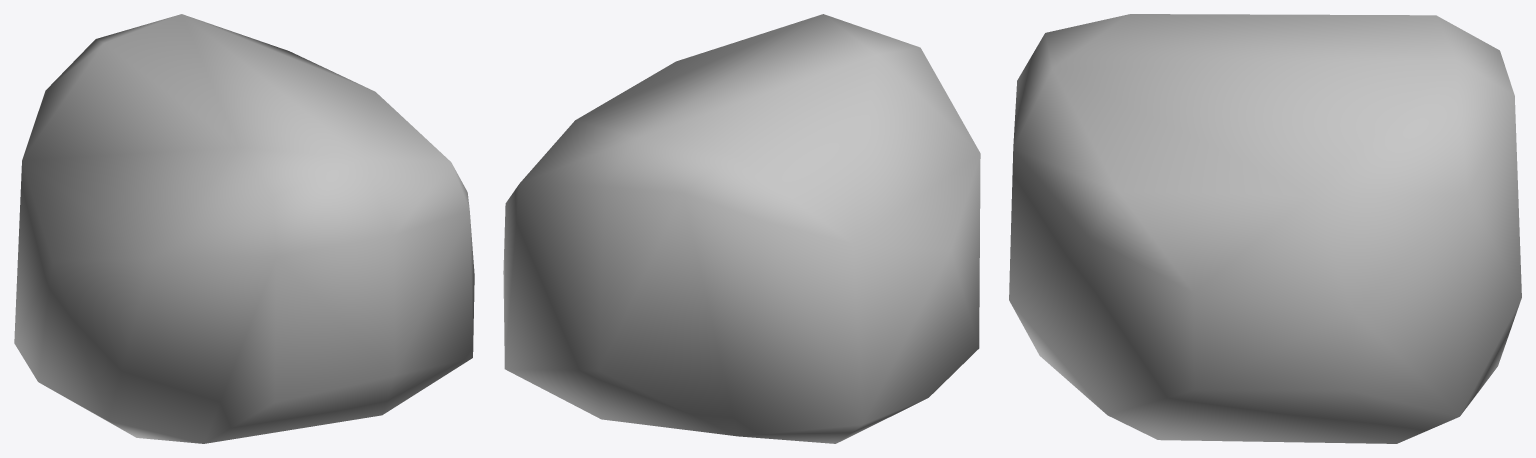
Rendered from Stone5.fbx.
3 renders of one model, left to right at view 1: azimuth 30°, elevation 25°; view 2: azimuth 150°, elevation 25°; view 3: azimuth 270°, elevation 25°, orthographic. The views are drawn at different scales.
Visible parts, largest first — view 1: Piedra_5; view 2: Piedra_5; view 3: Piedra_5.
Boxes of the visible parts, x1,y1,x2,y2 form: Piedra_5: [14, 14, 474, 443]; Piedra_5: [503, 14, 980, 443]; Piedra_5: [1009, 14, 1521, 443].
Size of the model in its own units: 3.96 by 2.66 by 3.97.
